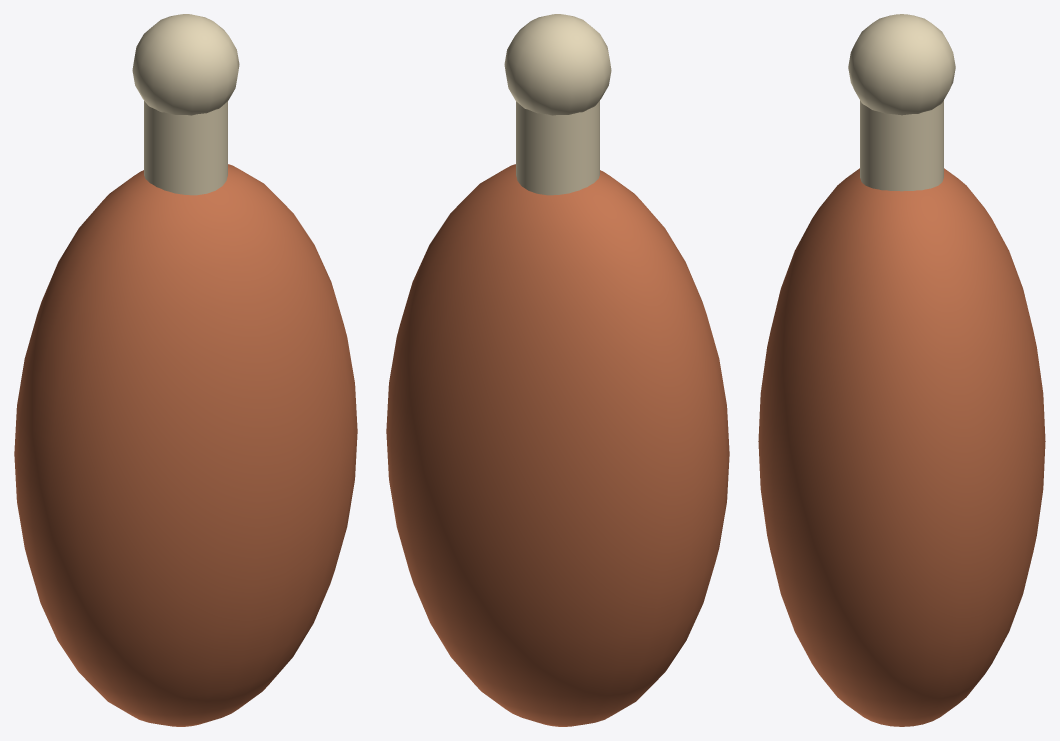
Rendered from adventurers-tavern-and-guild-hall-ham-hock-e219b17d__24721.glb.
3 views of the same model, side by side, from view 1: azimuth 30°, elevation 25°; view 2: azimuth 150°, elevation 25°; view 3: azimuth 270°, elevation 25° (orthographic).
Parts seen in each view (by area): view 1: ham-hock; view 2: ham-hock; view 3: ham-hock.
Part boxes in pixels (x1,y1,x2,y2): ham-hock: (14, 14, 357, 726); ham-hock: (386, 14, 729, 726); ham-hock: (758, 14, 1045, 726).
Bounding box in the file's own units: 0.3 × 0.645 × 0.24.
